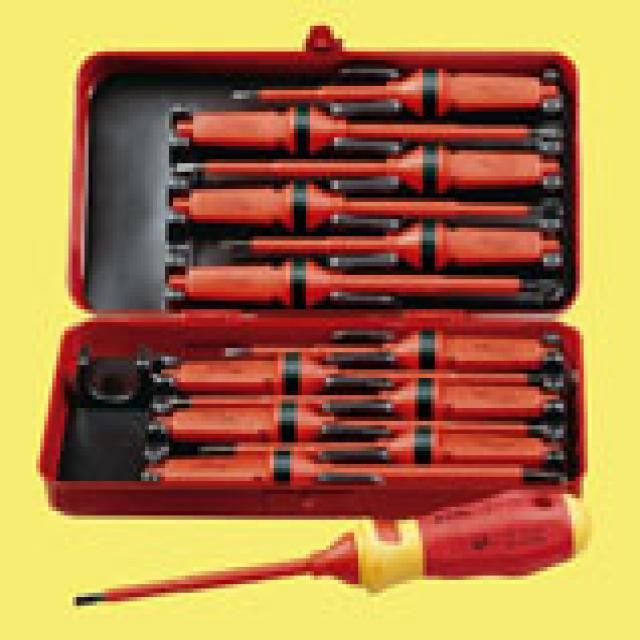screwdriver: (70, 486, 602, 632)
